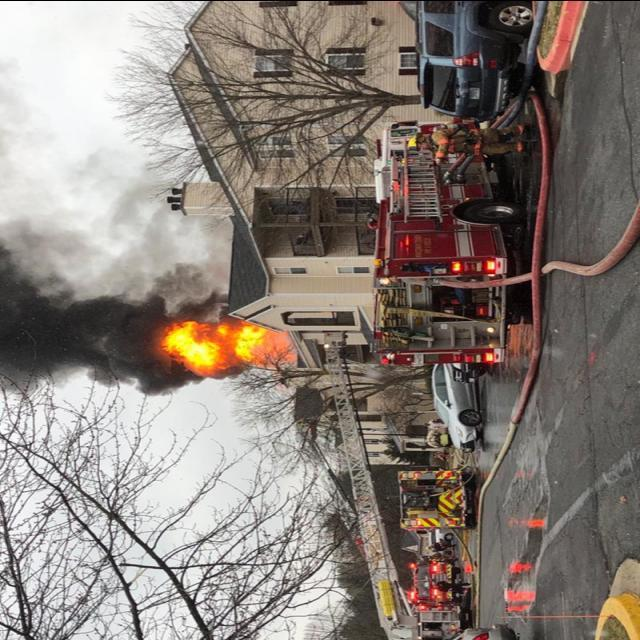Fire: (160, 298, 306, 376)
